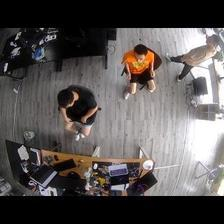normal: (55, 83, 100, 140), (166, 33, 221, 78), (118, 43, 155, 96)
